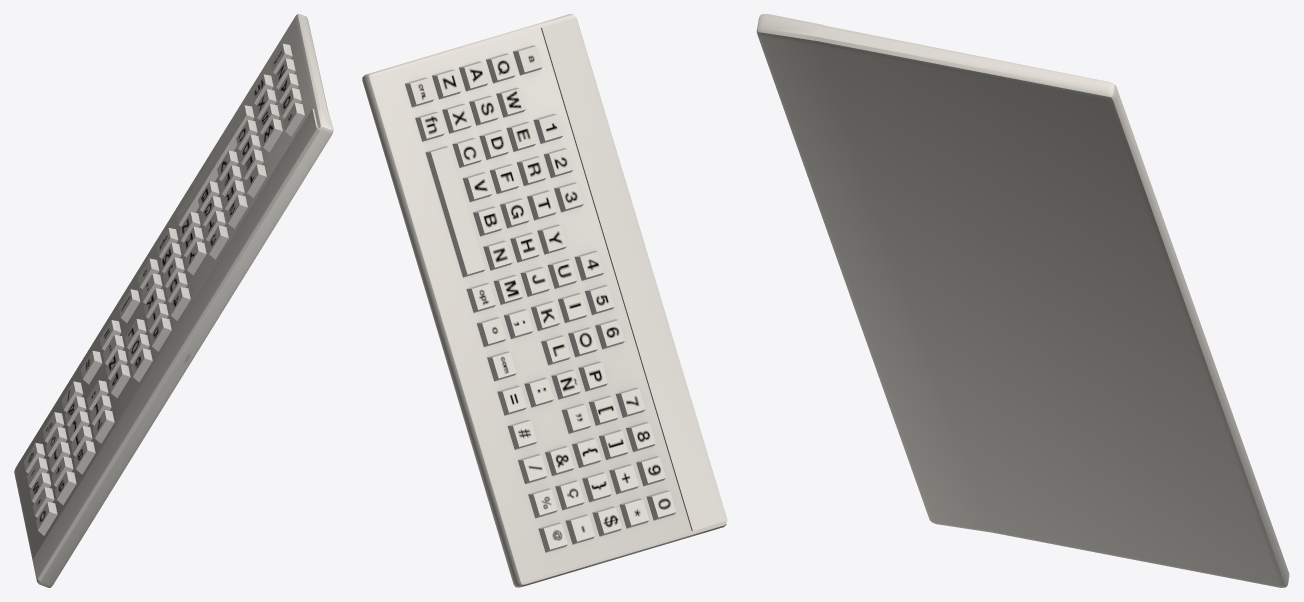
File: teclado.glb
The picture shows the model from 3 angles, left to right: view 1: azimuth 30°, elevation 25°; view 2: azimuth 150°, elevation 25°; view 3: azimuth 270°, elevation 25°; orthographic projection. The views are drawn at different scales.
Visible parts, largest first — view 1: Mesh; view 2: Mesh; view 3: Mesh.
Part boxes in pixels (left/top/right/bottom): Mesh: left=14, top=14, right=333, bottom=587; Mesh: left=362, top=14, right=727, bottom=587; Mesh: left=756, top=14, right=1289, bottom=587.
Size of the model in its own units: 1.02 by 1.34 by 0.9766.
1 material, 1 textured.
